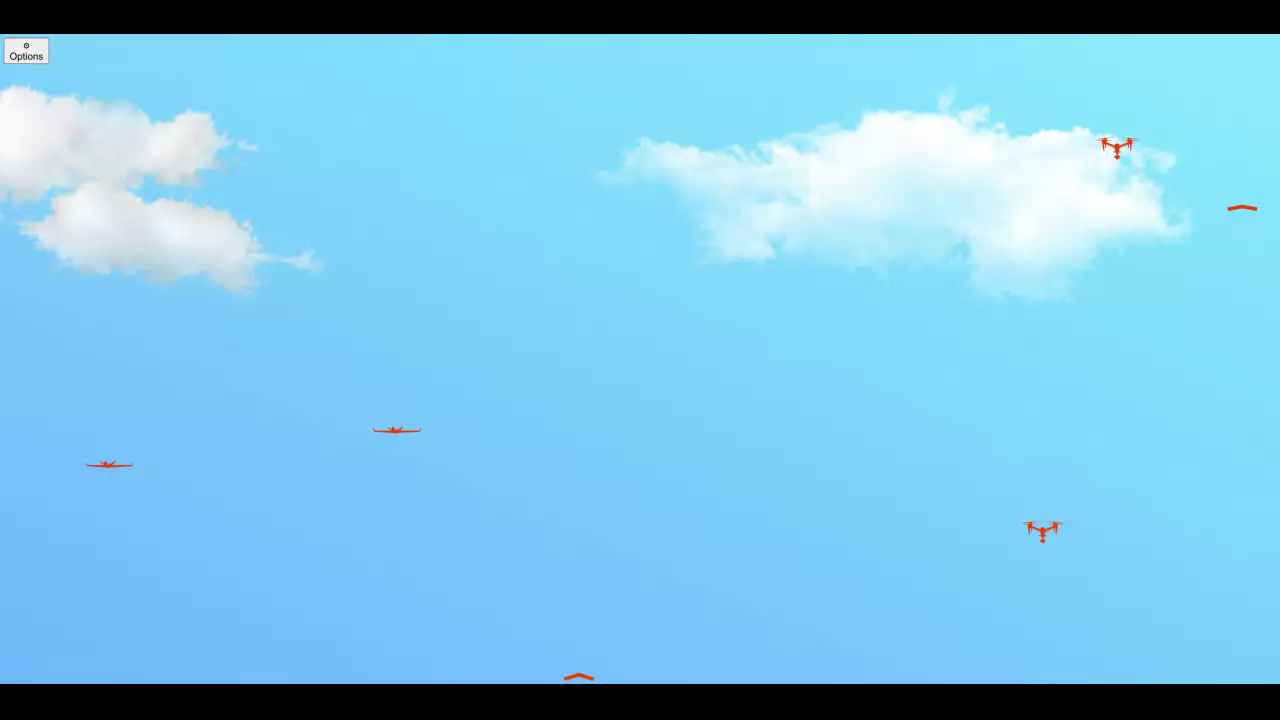Bird: (537, 643, 609, 684), (1215, 194, 1261, 231)
Drone: (69, 443, 150, 483), (356, 412, 426, 447)
Quadcopter: (1078, 125, 1145, 170), (1013, 509, 1079, 550)
